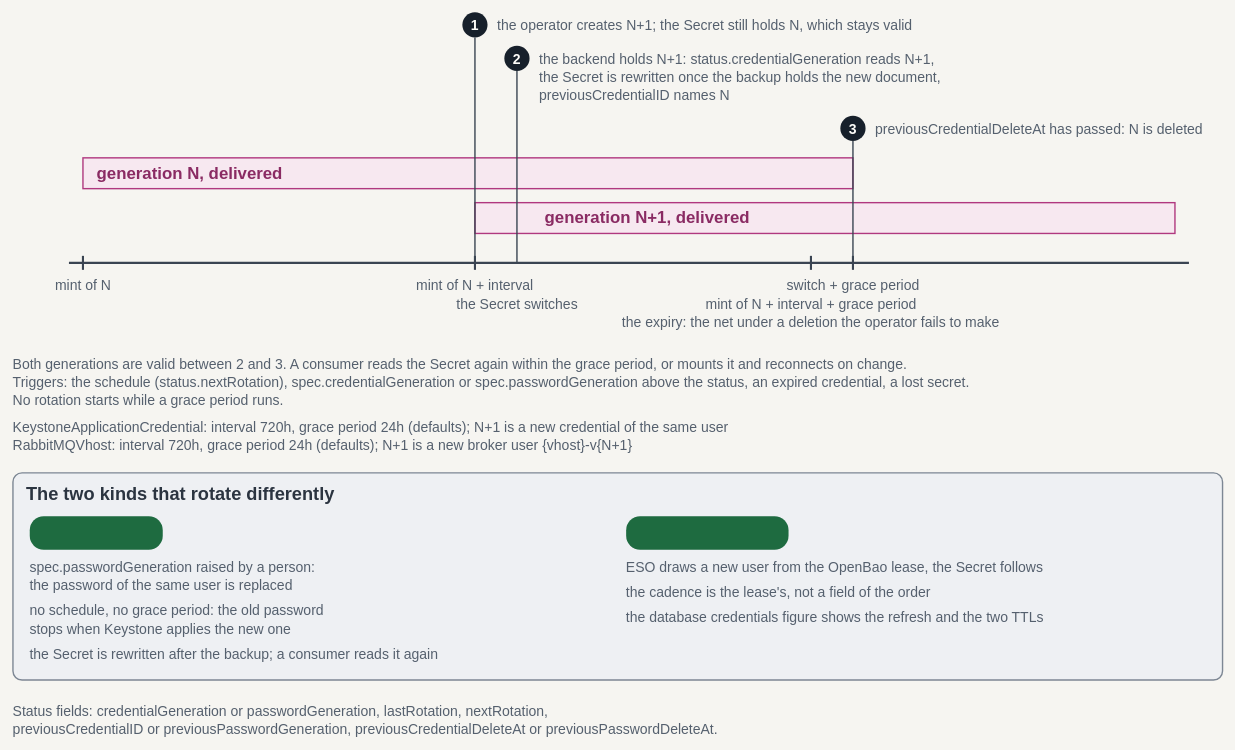
The diagram is 1235 pixels wide and 750 high, and some of its shapes have lost their labels. Here are the shapes that lost their labels. From the top down, the centre of each, then its label:
(x=95, y=533): KeystoneUser
(x=707, y=533): MariaDBDatabase
